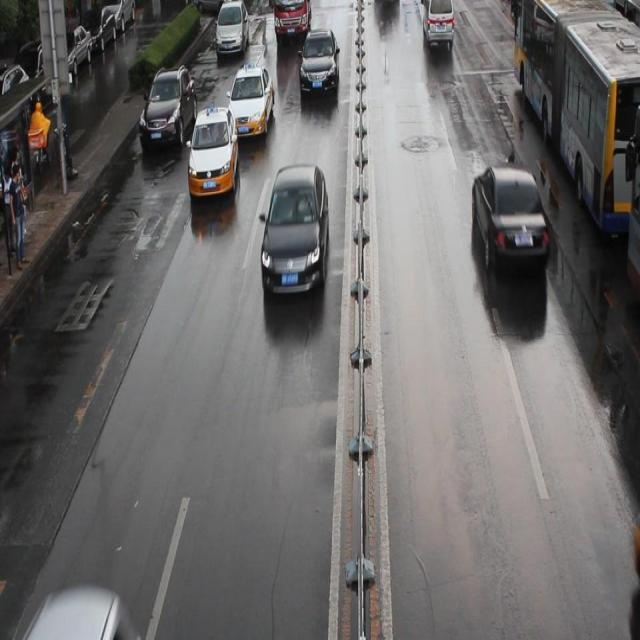bus: (273, 1, 312, 36)
car: (260, 162, 330, 296), (472, 162, 552, 268), (140, 64, 198, 148), (187, 104, 238, 197), (226, 64, 274, 137), (298, 27, 340, 93), (214, 1, 250, 57), (193, 1, 235, 11)
truck: (422, 1, 454, 44)
van: (512, 1, 640, 237), (623, 98, 640, 294)
